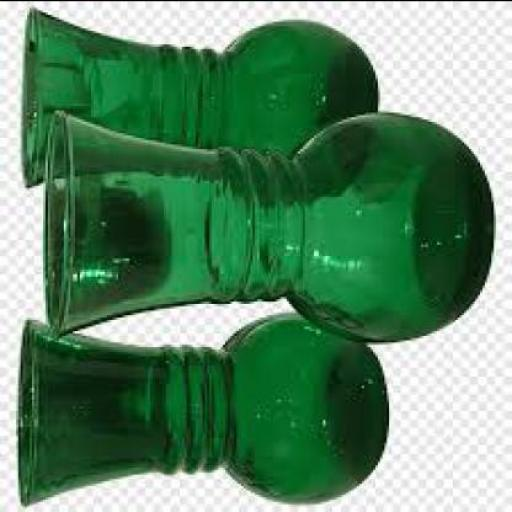glass: (38, 105, 492, 341), (15, 309, 387, 501), (21, 5, 375, 198)
